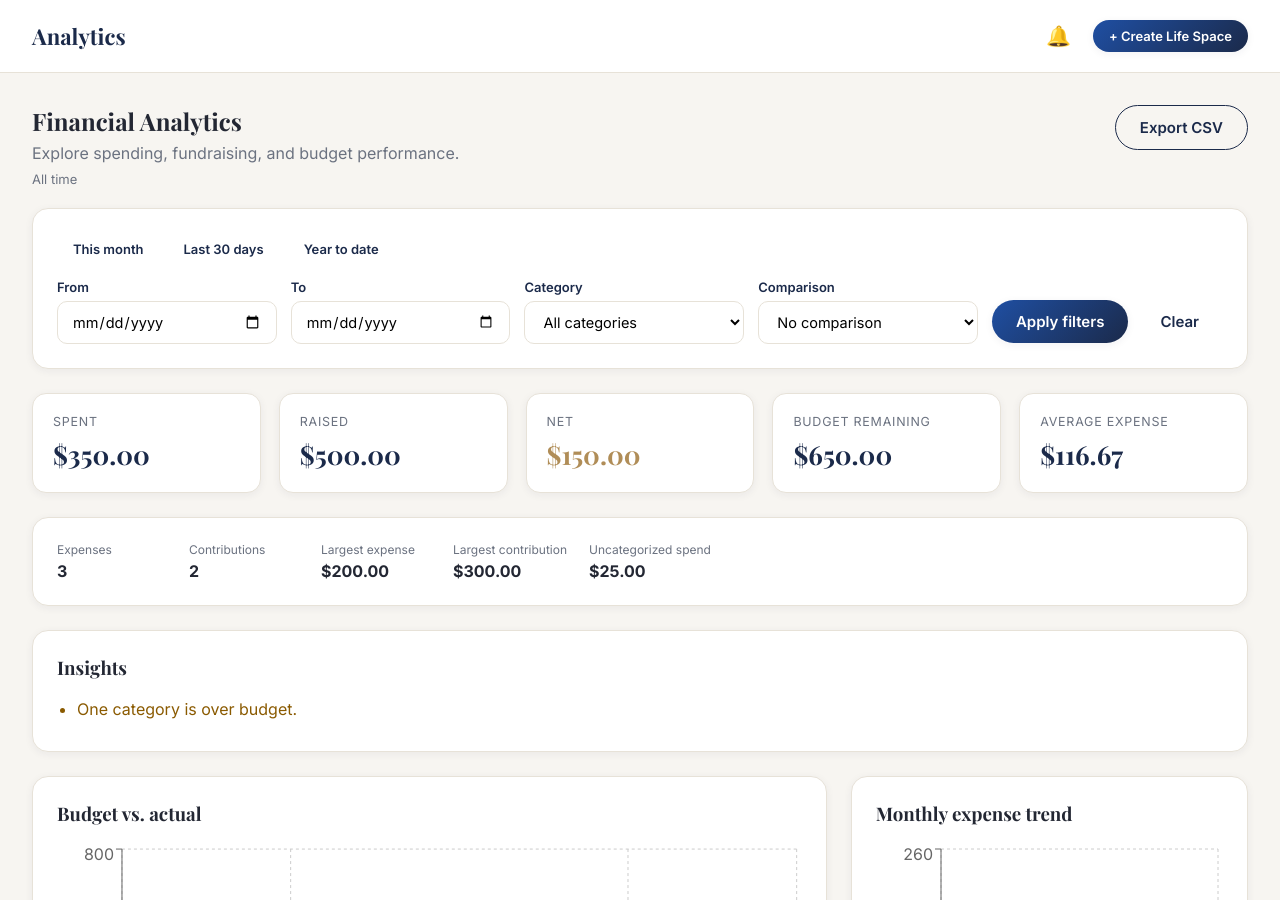
Test: Analytics v2 › fills a year-to-date range
Click the button "Year to date" at (341,249), box [288,233,395,265]
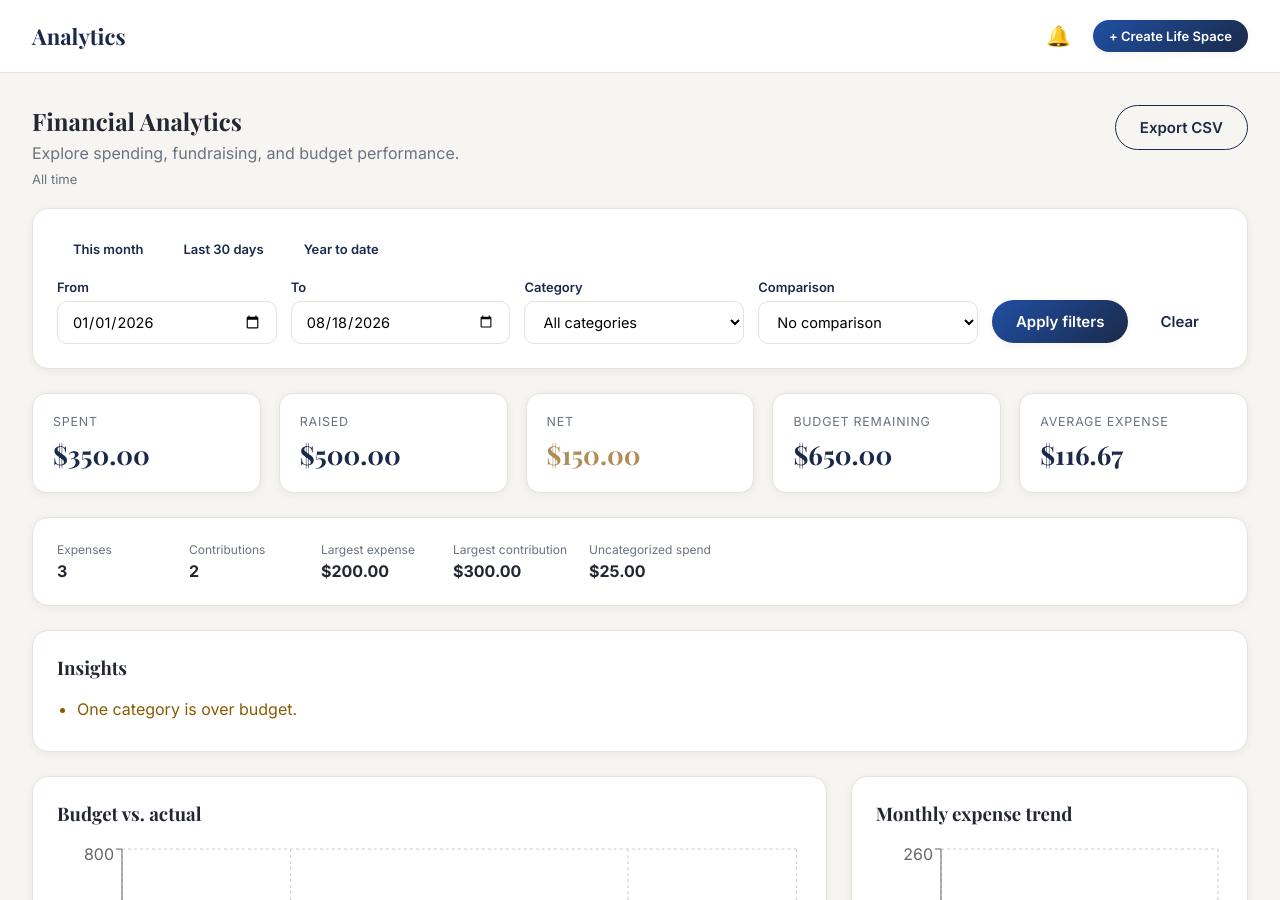
Result: the date field labelled "From" holds "2026-01-01" at [57,301,277,344]
Result: the date field labelled "To" holds "2026-08-18" at [291,301,510,344]
